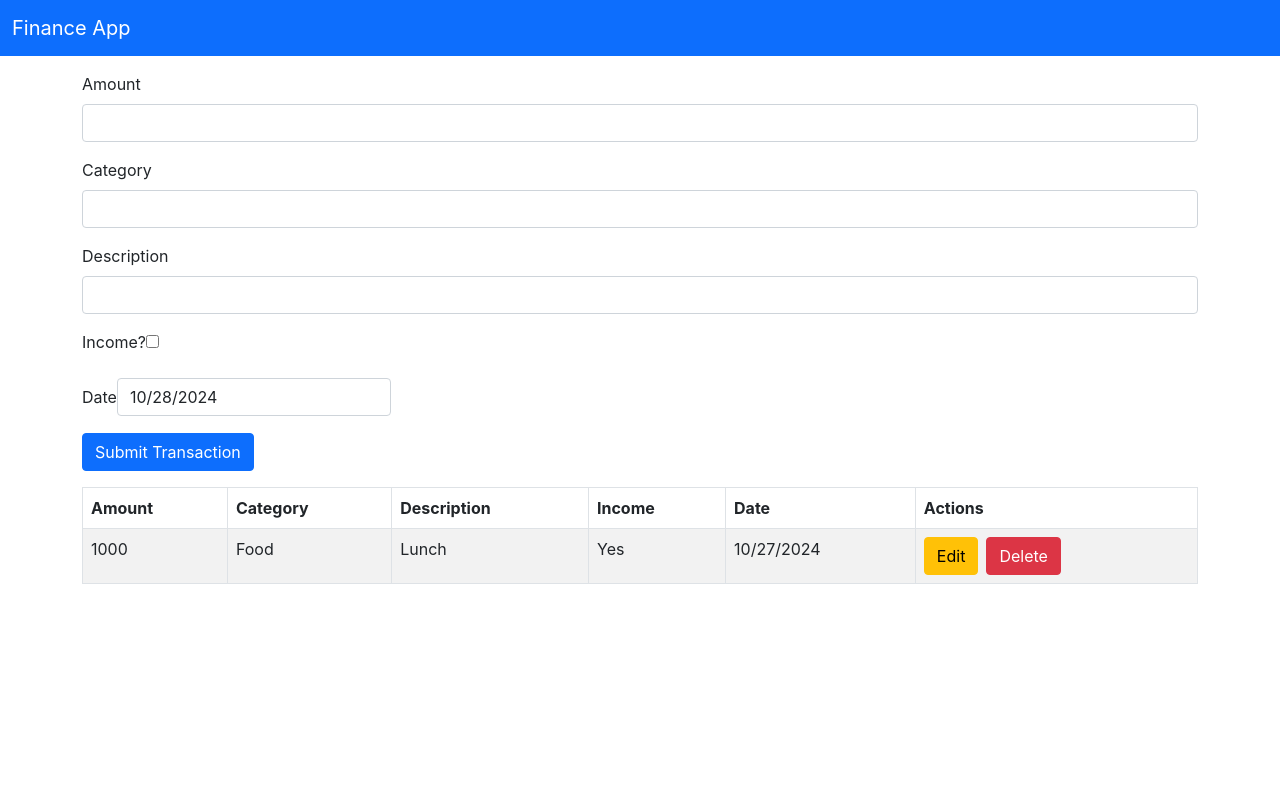
Test: Finance App › handles deleting a transaction
Expected: the text "1000" is shown, [82,528,228,584]
Click the delete button for the transaction
Click the button "Delete". click: (1024, 556)
box: [986,537,1061,575]
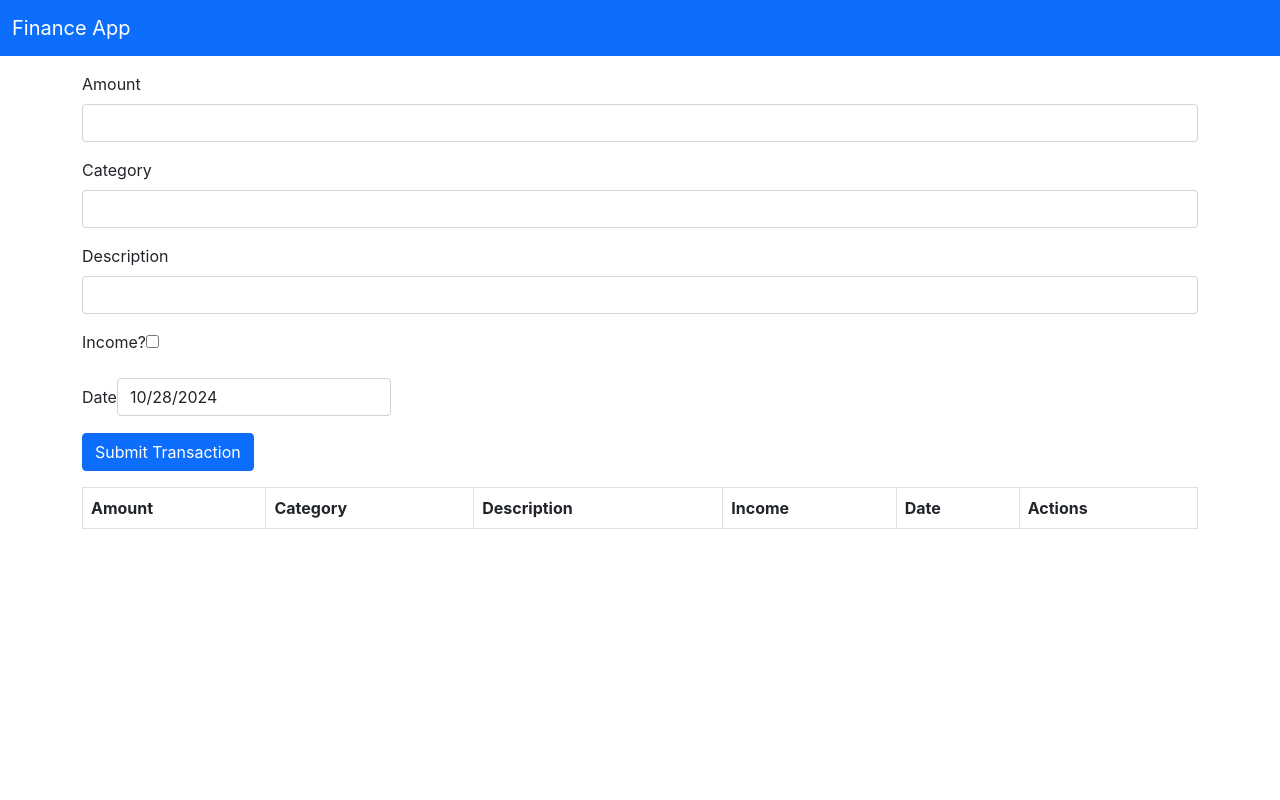
Expected: the text "1000" is gone
